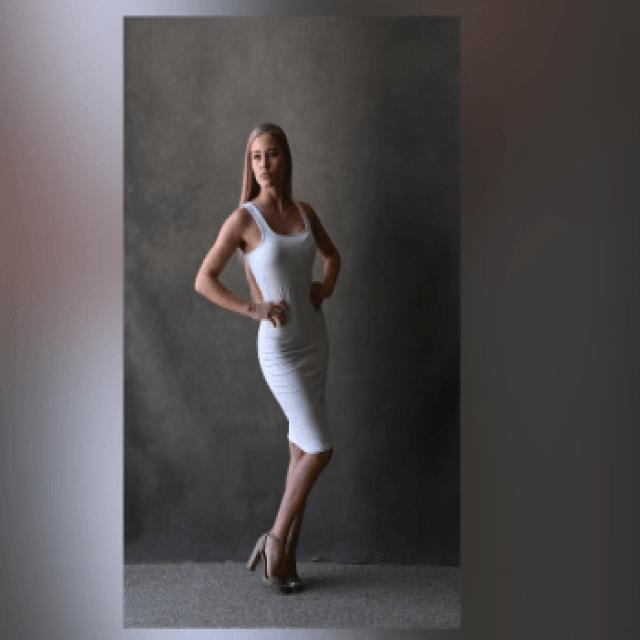clothes: (206, 190, 362, 476)
